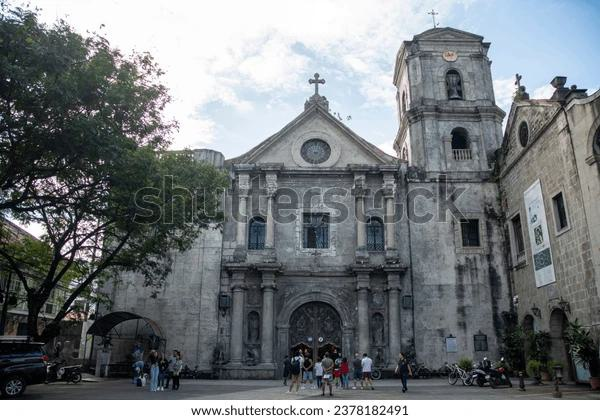san_agustin_church_intramuros_manila: (226, 7, 521, 377)
